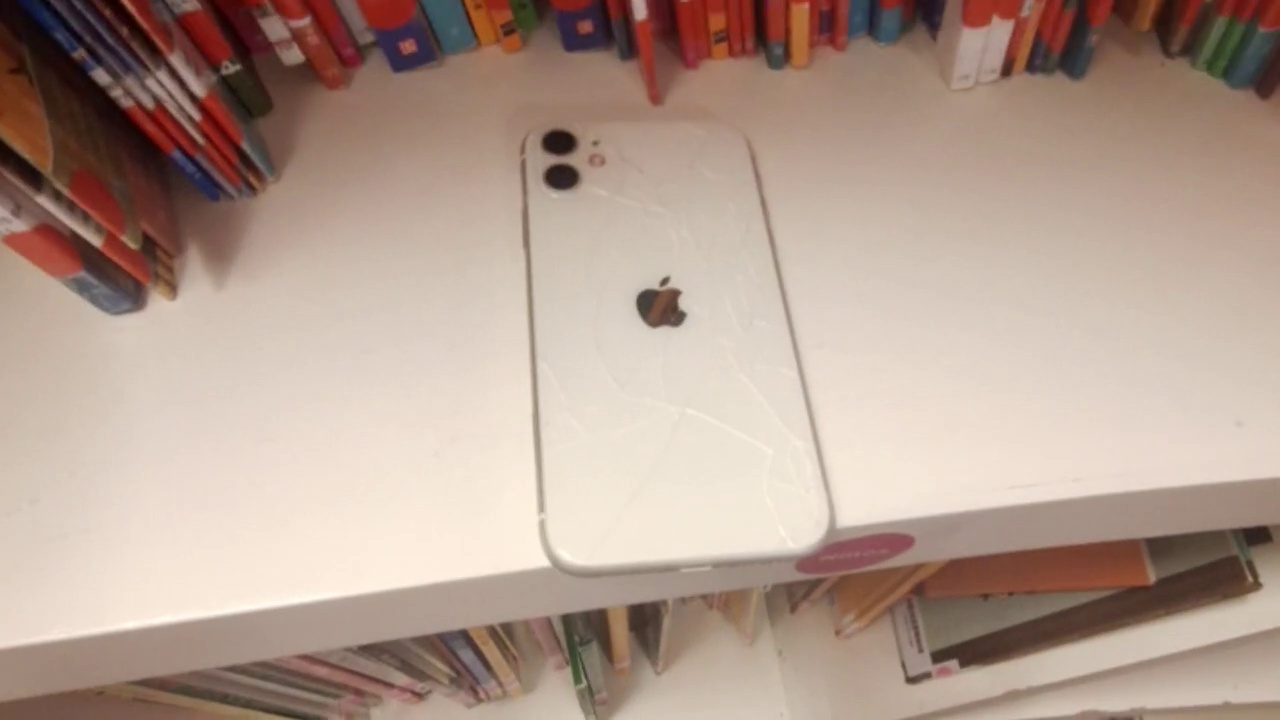celular: (525, 115, 832, 578)
